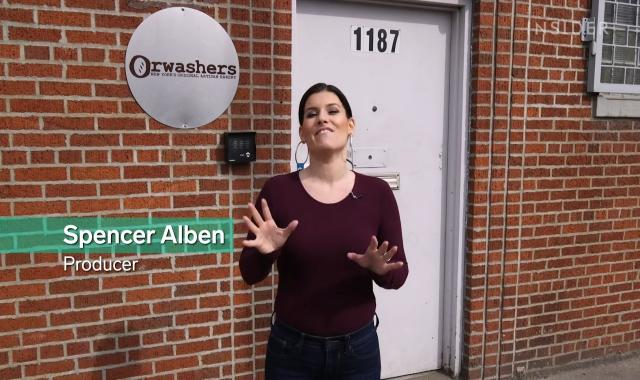no_hairnet: (297, 81, 358, 152)
